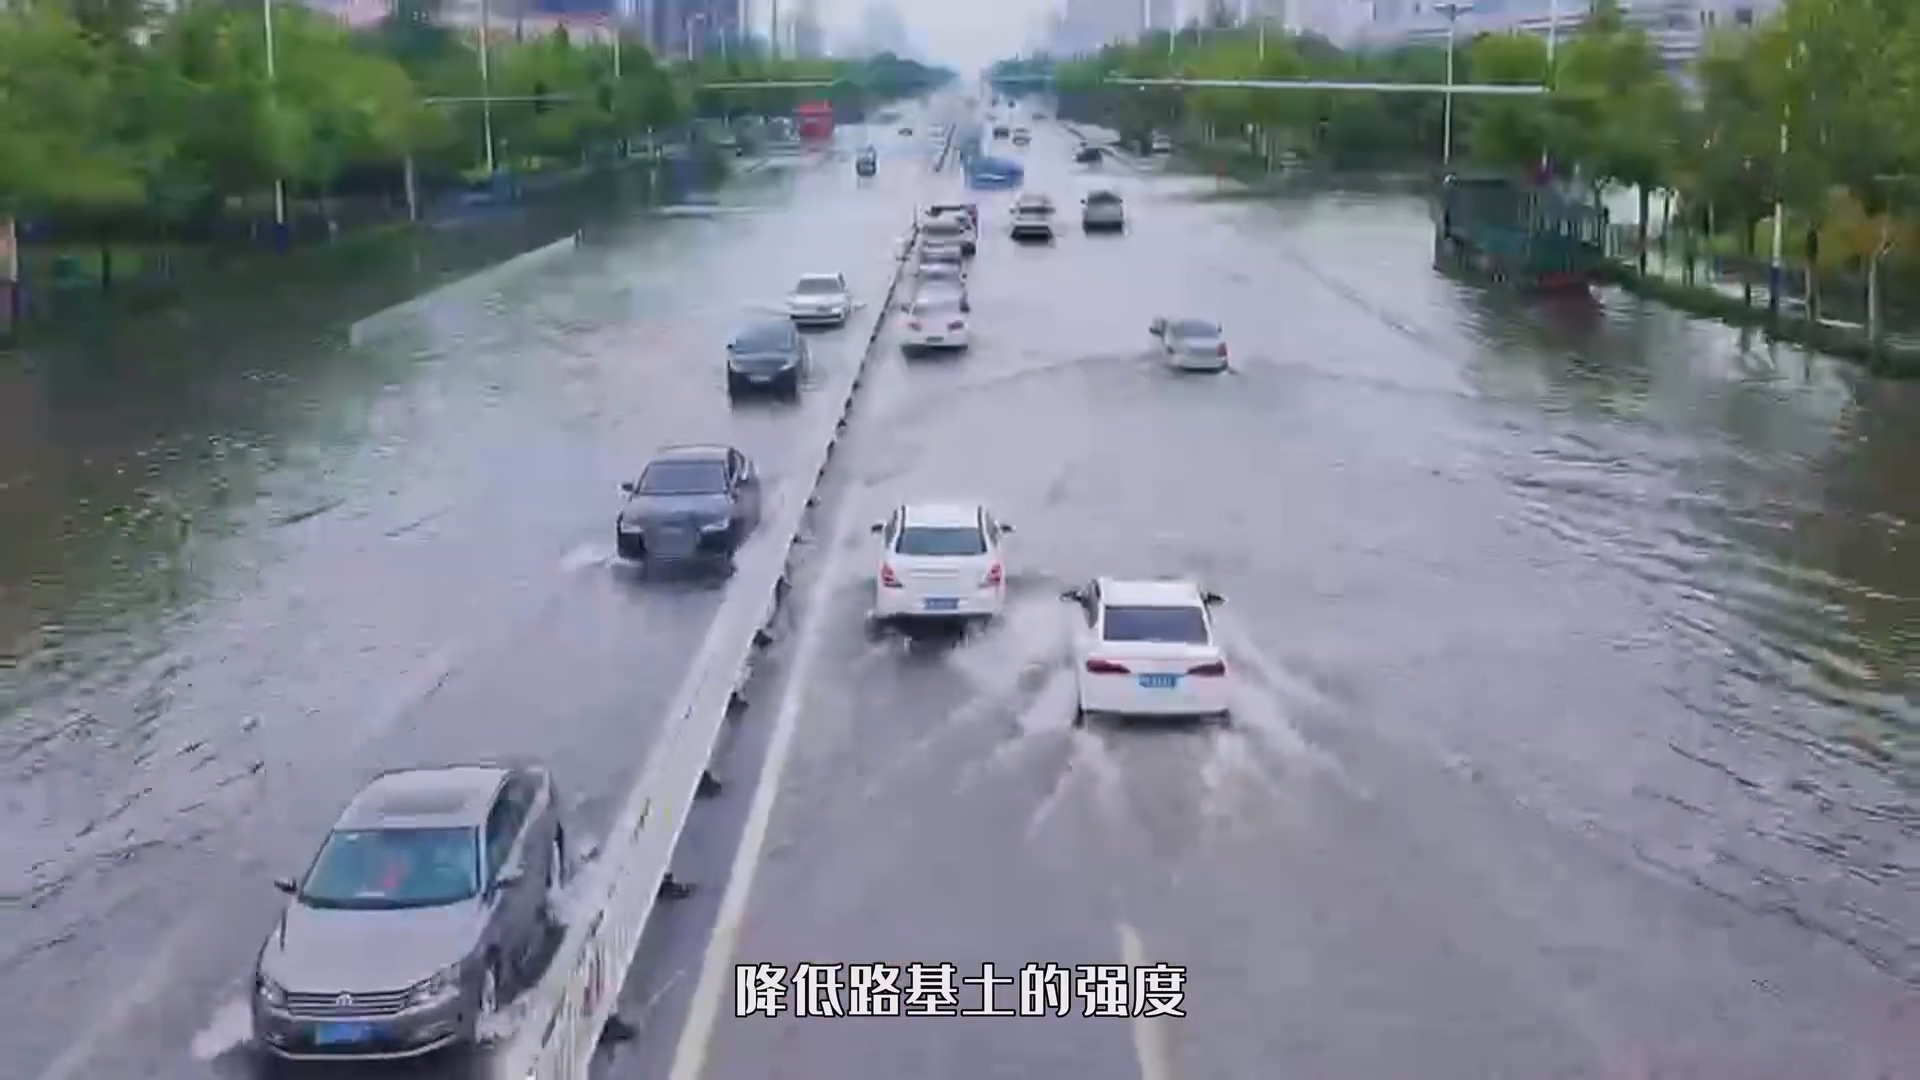puddle: (1, 269, 1920, 1080)
